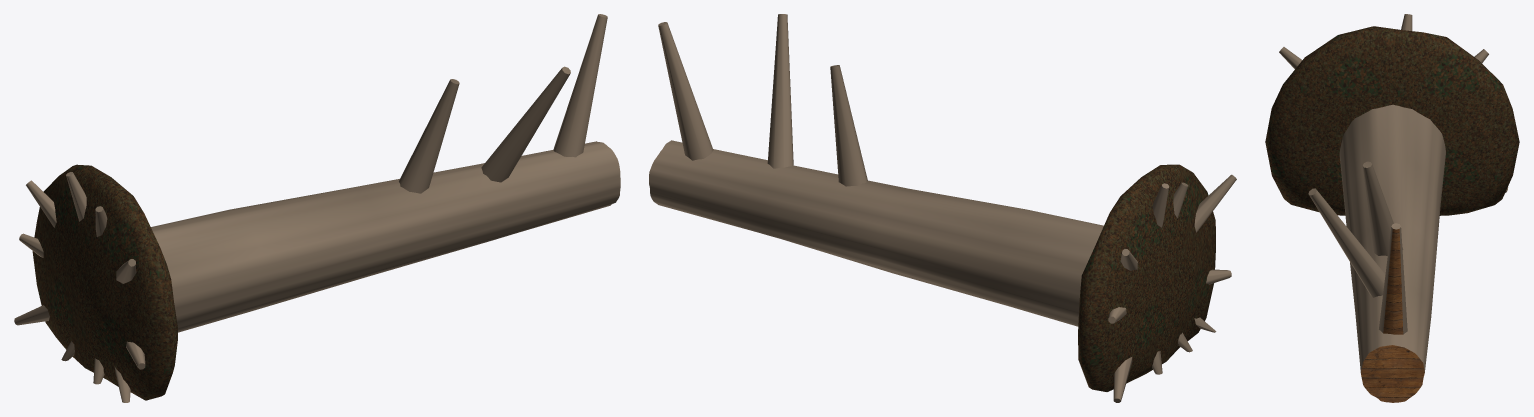
File: uprooted-tree-v01.glb
The picture shows the model from 3 angles, left to right: view 1: azimuth 30°, elevation 25°; view 2: azimuth 150°, elevation 25°; view 3: azimuth 270°, elevation 25°; orthographic projection. The views are drawn at different scales.
Parts seen in each view (by area): view 1: uprooted-tree; view 2: uprooted-tree; view 3: uprooted-tree.
Part boxes in pixels (<box>): uprooted-tree: <box>14,14,620,402</box>; uprooted-tree: <box>649,14,1236,402</box>; uprooted-tree: <box>1265,14,1519,402</box>.
Size of the model in its own units: 6.1 by 2.44 by 2.62.
3 materials, 2 textured.
